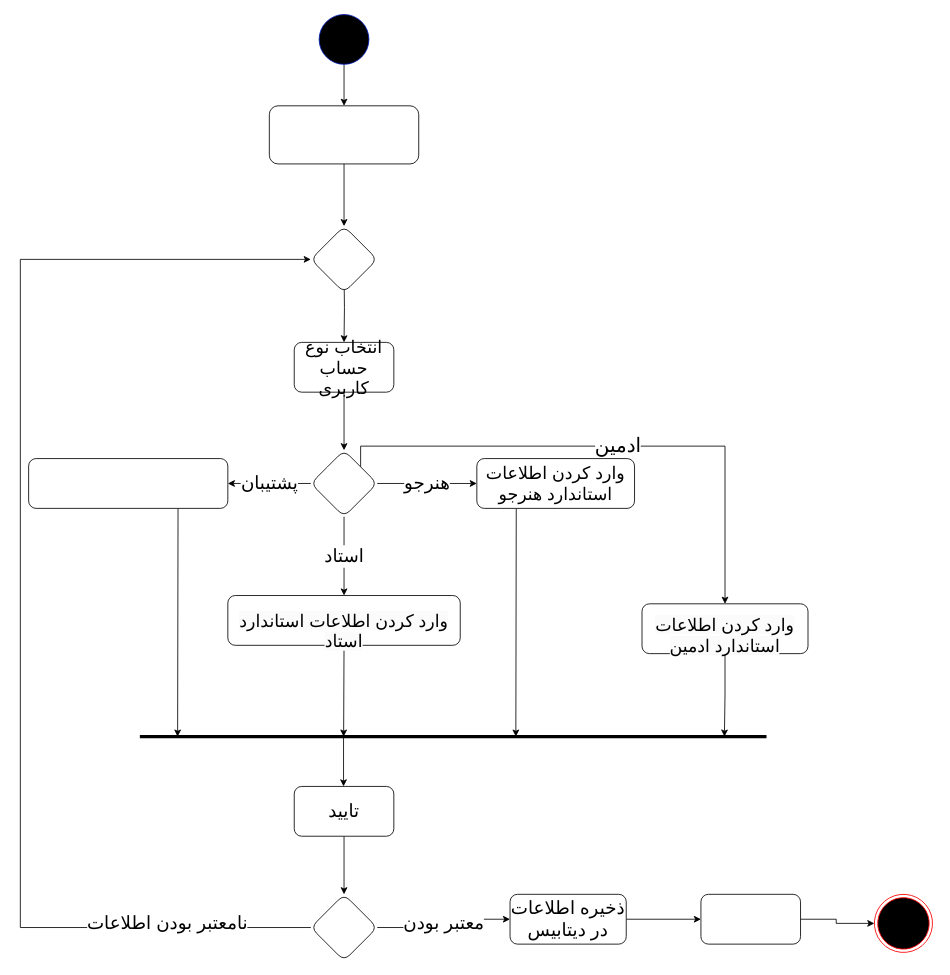
Image size: 950x975. Some labels were removed from this diagram. The box of each missing label's shape, as (x1, y1, x2, y2) in pixels:
ایجاد حساب جدید: (700, 893, 801, 944)
وارد کردن اطلاعات استاندارد پشتیبان: (28, 458, 228, 508)
کلیک روی ایجاد حساب کاربری جدید: (269, 105, 419, 164)
